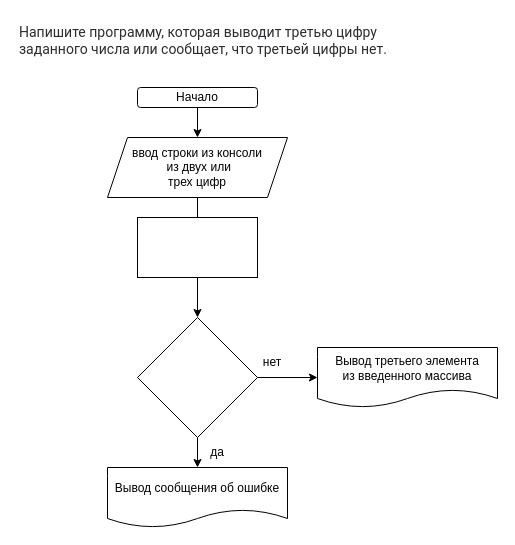
Image size: 515x545. Some labels were removed from this diagram. Here are the shapes that lost their labels. From the top down, the centre of each, then its label:
At (x=197, y=247): "преобразование строки в массив".
At (x=197, y=377): "длинна строки < 3".
